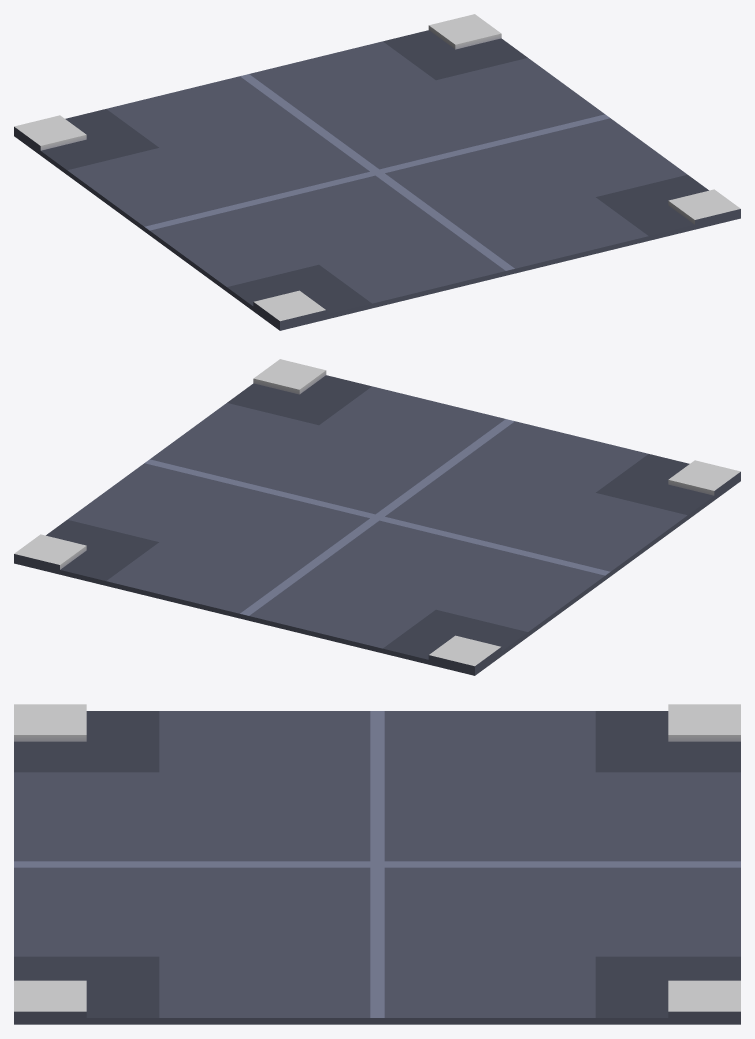
Rendered from road-crossroad-line.glb.
3 views of the same model, one above another, from view 1: azimuth 30°, elevation 25°; view 2: azimuth 150°, elevation 25°; view 3: azimuth 270°, elevation 25° (orthographic). The views are drawn at different scales.
Parts seen in each view (by area): view 1: road-crossroad-line; view 2: road-crossroad-line; view 3: road-crossroad-line.
Part boxes in pixels (x1,y1,x2,y2): road-crossroad-line: (14, 14, 740, 330); road-crossroad-line: (14, 359, 740, 675); road-crossroad-line: (14, 704, 740, 1024).
Size of the model in its own units: 1 by 0.02 by 1.
